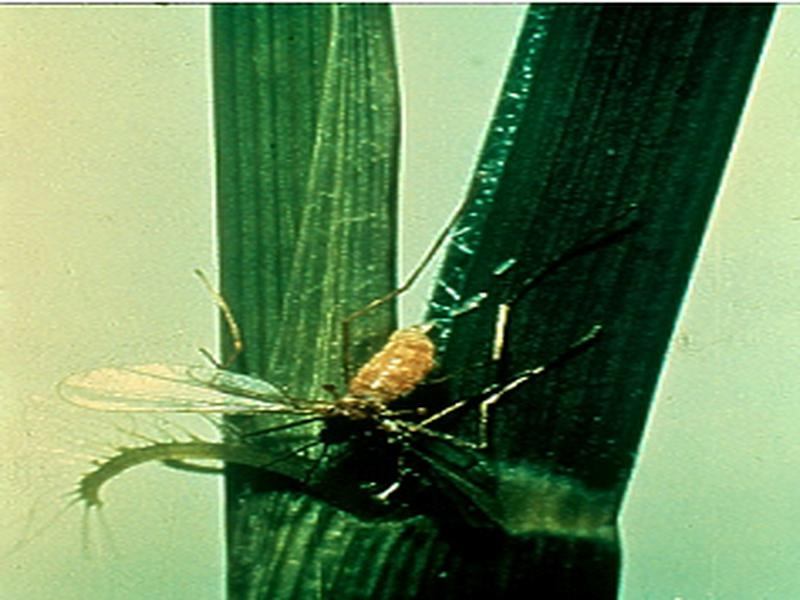Gall_midge: (264, 307, 473, 483)
